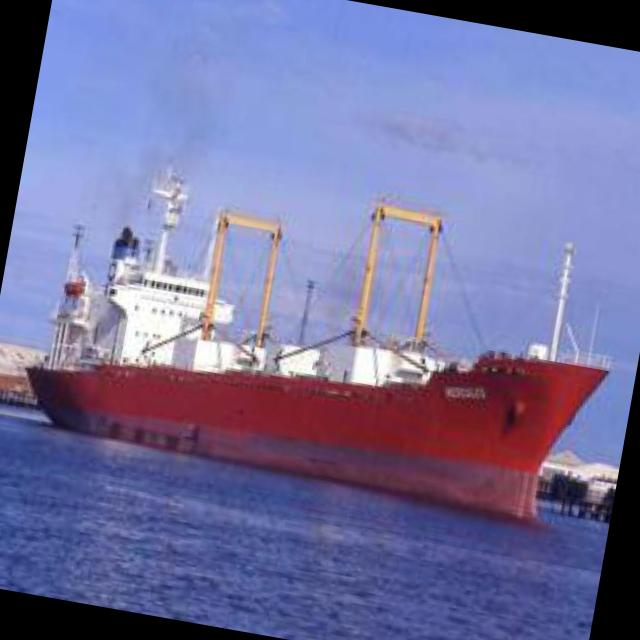boat: (24, 235, 624, 545)
